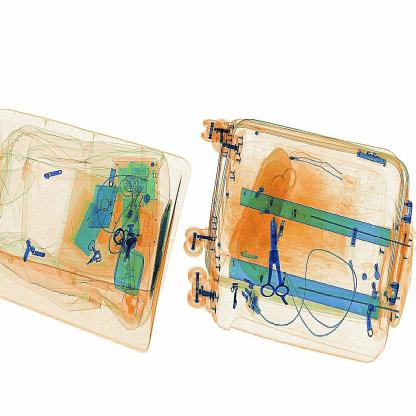gun: (253, 210, 307, 312)
